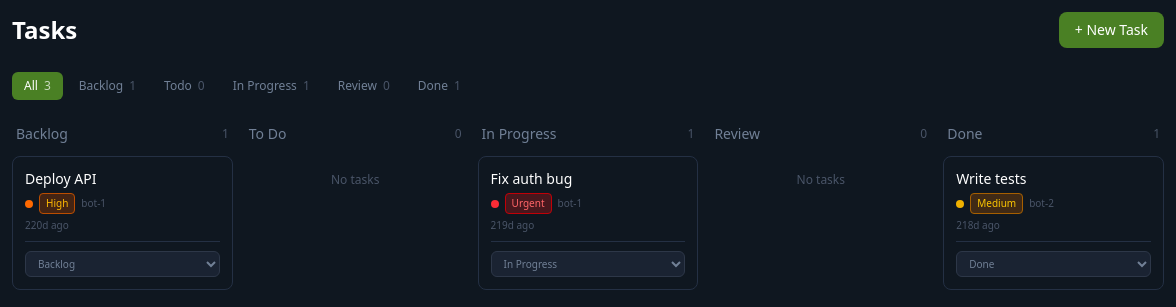
Test: TaskBoardClient › T4: click task shows detail panel
The width and height of the screenshot is (1176, 307).
Click the element with test id "task-card" showing "Deploy API High bot-1 220d ago" at {"x": 122, "y": 223}, box top-left (12, 156), bottom-right (233, 290)
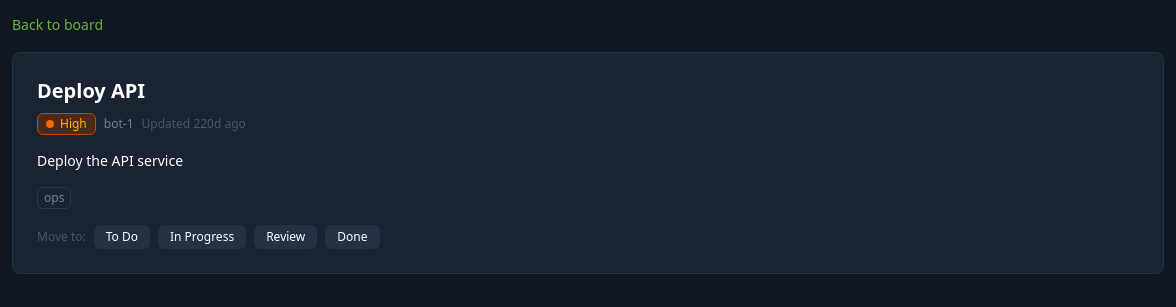
Expected: the heading "Deploy API" is shown, top-left (37, 77), bottom-right (145, 104)
Expected: the element with test id "task-detail" is shown
Expected: the button with test id "back-to-board" is shown, top-left (12, 15), bottom-right (103, 35)
